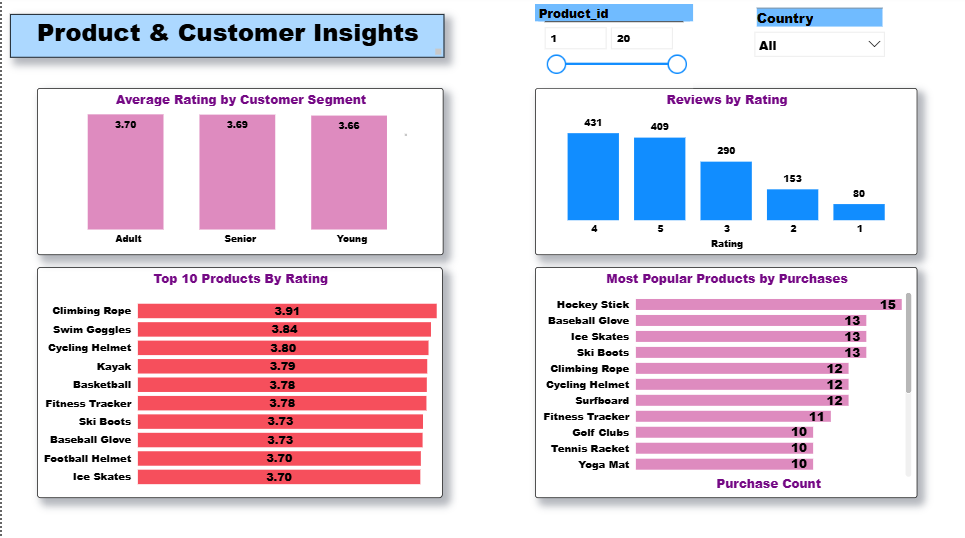

What the dashboard file says about the page in this screenshot:
{"tool":"powerbi","page":{"name":"Page 2","canvas":[1280,720],"ordinal":0},"visuals":[{"type":"barChart","title":"Top 10 Products By Rating","fields":{"Category":["Products.Prd_name"],"Y":["Avg(Customer review.Rating)"]},"box":[34.5,385.2,605.8,306.9],"z":0},{"type":"columnChart","title":"Reviews by Rating","fields":{"Category":["Customer review.Rating"],"Y":["CountNonNull(Customer review.Reviewid)"]},"box":[708,122.2,508.8,221.8],"z":1000},{"type":"columnChart","title":"Average Rating by Customer Segment","fields":{"Category":["Customers.Customer segment"],"Y":["Avg(Customer review.Rating)"]},"box":[46.5,122.2,539.3,221.8],"z":2000},{"type":"clusteredBarChart","title":"Most Popular Products by Purchases","fields":{"Category":["Products.Prd_name"],"Y":["CountNonNull(Customer journey.Journeyid)"]},"box":[692.1,385.2,542,306.9],"z":3000},{"type":"slicer","fields":{"Values":["Countries.Country"]},"box":[990,10,193.3,100],"z":4000},{"type":"slicer","title":"Product_id","fields":{"Values":["Products.Productid"]},"box":[708.3,10,210,111.7],"z":5000},{"type":"textbox","box":[530,178.3,13.3,13.3],"z":6000},{"type":"textbox","title":"Product & Customer Insights","box":[10,23.3,576.7,58.3],"z":7000}]}

Visuals, with their boxes in screenshot pixels (x1, y1, x2, y2), scaled from the page's 1280x720 canvas onto the 965x538 screenshot:
"Top 10 Products By Rating" barChart: x1=26 y1=288 x2=483 y2=517
"Reviews by Rating" columnChart: x1=534 y1=91 x2=917 y2=257
"Average Rating by Customer Segment" columnChart: x1=35 y1=91 x2=442 y2=257
"Most Popular Products by Purchases" clusteredBarChart: x1=522 y1=288 x2=930 y2=517
slicer - Countries.Country: x1=746 y1=7 x2=892 y2=82
"Product_id" slicer: x1=534 y1=7 x2=692 y2=91
textbox: x1=400 y1=133 x2=410 y2=143
"Product & Customer Insights" textbox: x1=8 y1=17 x2=442 y2=61
